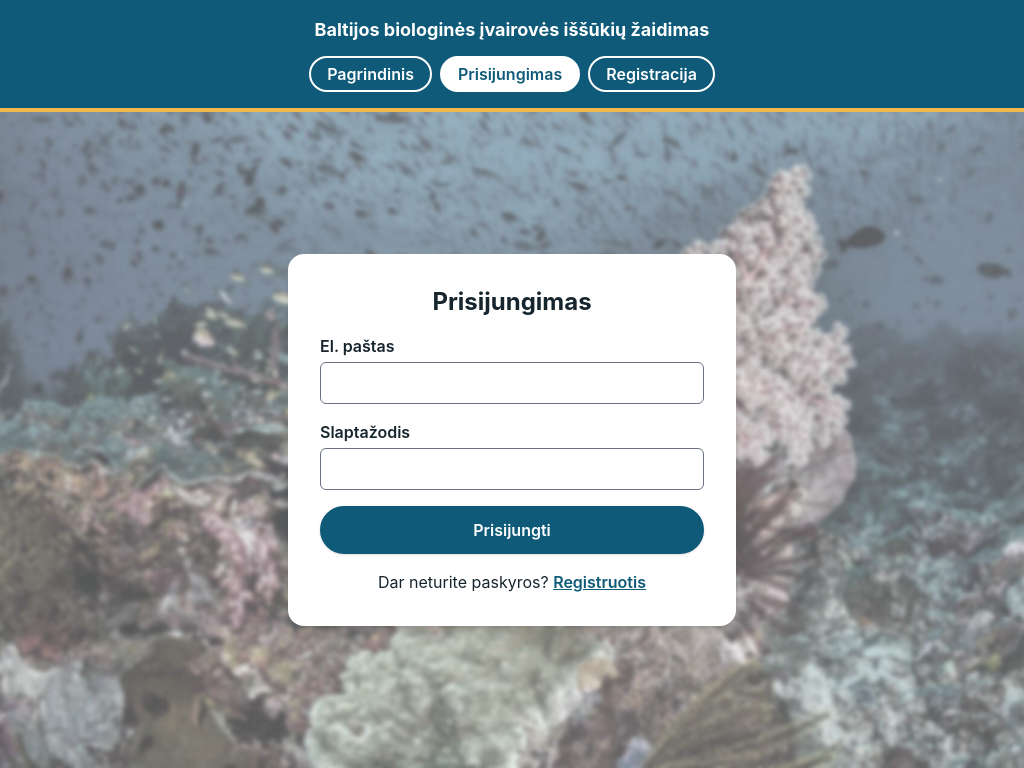
Test: LoginPage › shows invalid credentials error and clears password on 401
Type "user@example.com" into the field labelled "El. paštas" at (512, 383), box [320,362,704,404]
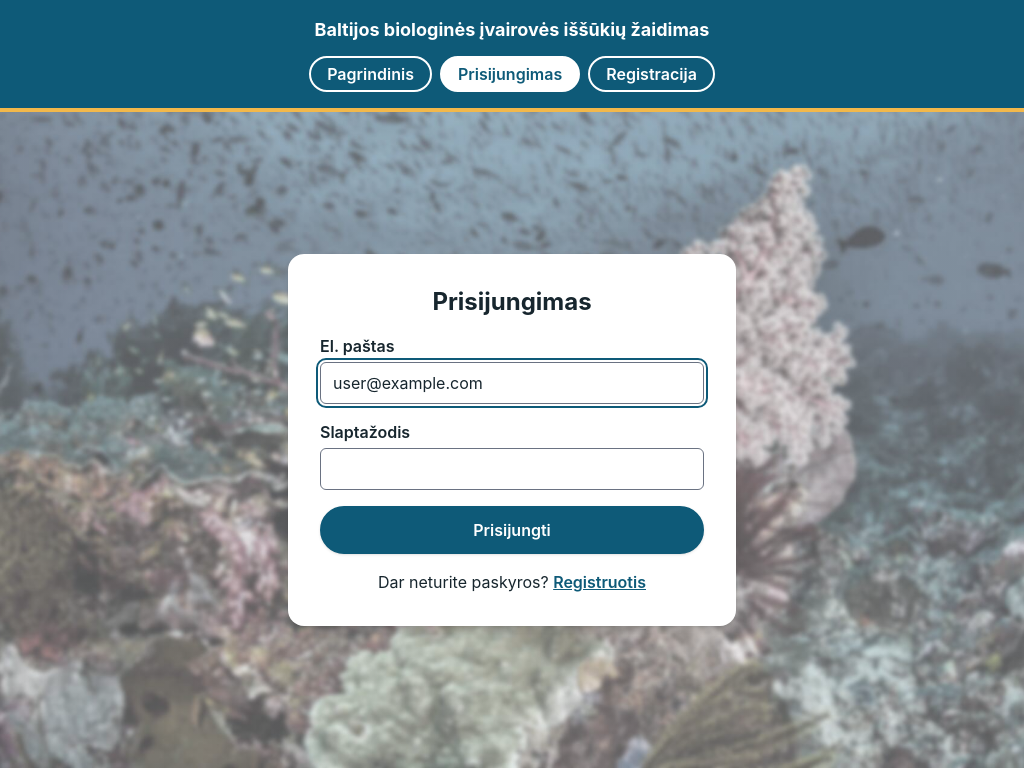
Type "secret123" into the password field labelled "Slaptažodis" at (512, 469), box [320,448,704,490]
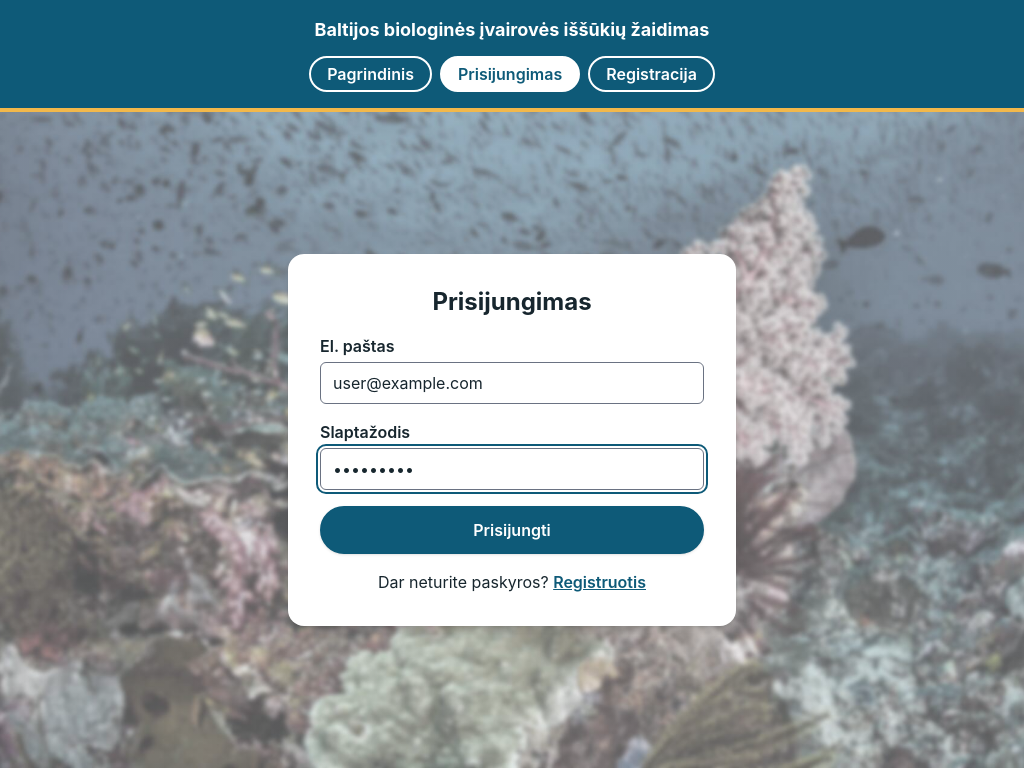
Click the button "Prisijungti" at (512, 530), box [320,506,704,554]
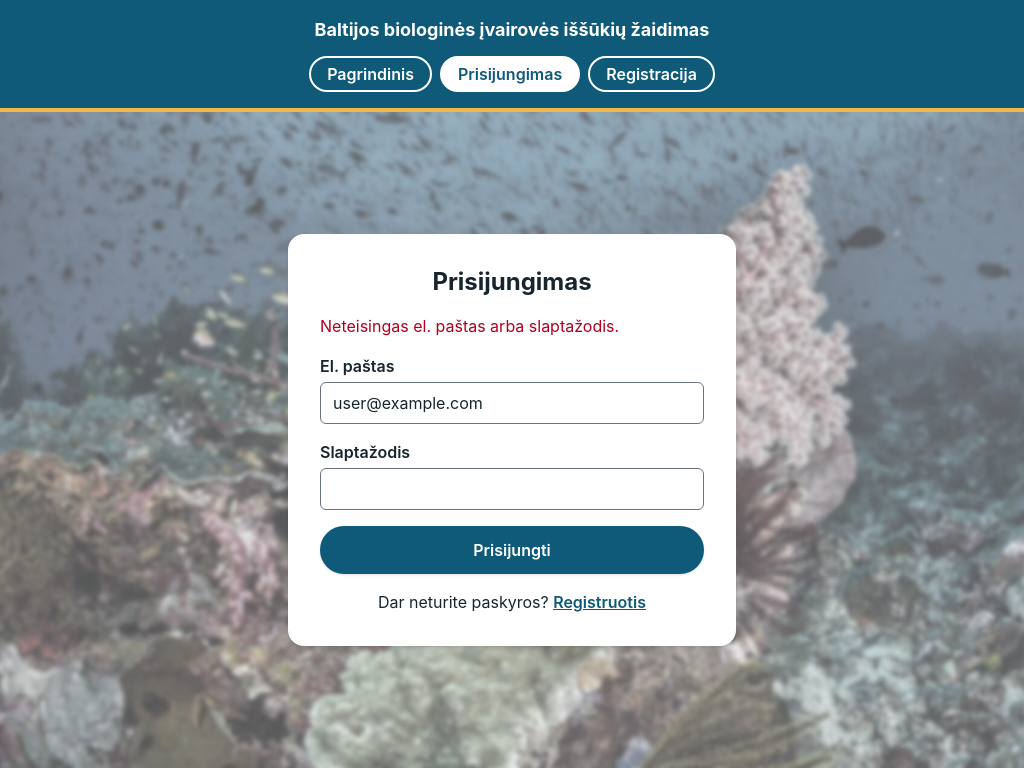
Expected: the text "Neteisingas el. paštas arba slaptažodis." is shown, [320,316,619,336]
Expected: the password field labelled "Slaptažodis" is empty, [320,468,704,510]
